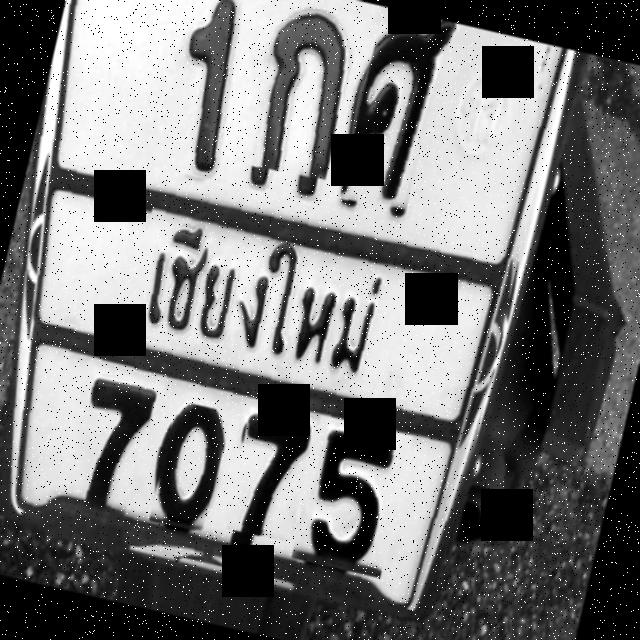letters: (339, 13, 464, 218), (238, 0, 362, 183), (154, 0, 265, 183), (288, 415, 412, 578), (46, 366, 158, 520), (222, 406, 316, 542), (148, 399, 233, 534)
license-plate: (4, 0, 566, 612)
province: (123, 205, 409, 392)
